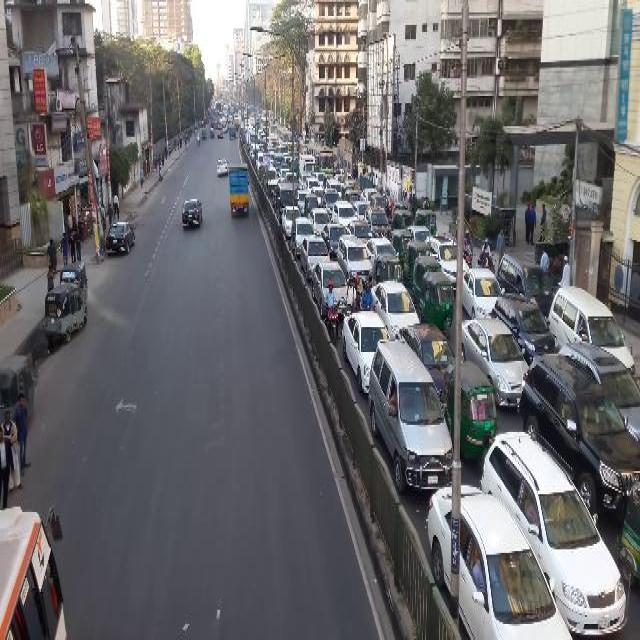bus: (1, 506, 65, 634), (305, 143, 333, 173), (276, 124, 292, 143)
car: (426, 484, 524, 636), (462, 316, 524, 406), (478, 428, 524, 528), (397, 322, 455, 396), (340, 311, 390, 393), (462, 267, 504, 320), (310, 260, 348, 316), (424, 234, 468, 282), (298, 236, 329, 280), (292, 216, 314, 257), (106, 221, 134, 248), (324, 220, 346, 252), (343, 220, 372, 242), (308, 208, 330, 236), (182, 198, 200, 225), (296, 190, 310, 212), (216, 156, 228, 174), (360, 188, 378, 200)
minivan: (520, 360, 638, 515), (367, 338, 453, 490), (547, 279, 633, 372), (338, 233, 372, 279), (264, 165, 278, 191)
motorbike: (322, 278, 340, 344), (196, 133, 200, 144)
pickup: (228, 162, 248, 218), (298, 153, 316, 174)
suv: (483, 432, 629, 624), (491, 293, 524, 347), (496, 249, 524, 288), (364, 204, 391, 237), (332, 199, 356, 224), (332, 198, 356, 222), (320, 187, 340, 208), (325, 177, 341, 193)
three wheelers -CNG-: (444, 362, 496, 463), (46, 284, 86, 345), (420, 270, 452, 331), (0, 354, 34, 410), (411, 254, 441, 304), (59, 263, 89, 288), (392, 228, 412, 256), (416, 206, 434, 231), (392, 207, 412, 227), (370, 192, 386, 210), (304, 193, 316, 216), (344, 189, 358, 202), (394, 198, 410, 207), (200, 128, 206, 139), (209, 127, 213, 136)
van: (276, 182, 296, 220), (273, 152, 285, 172)
